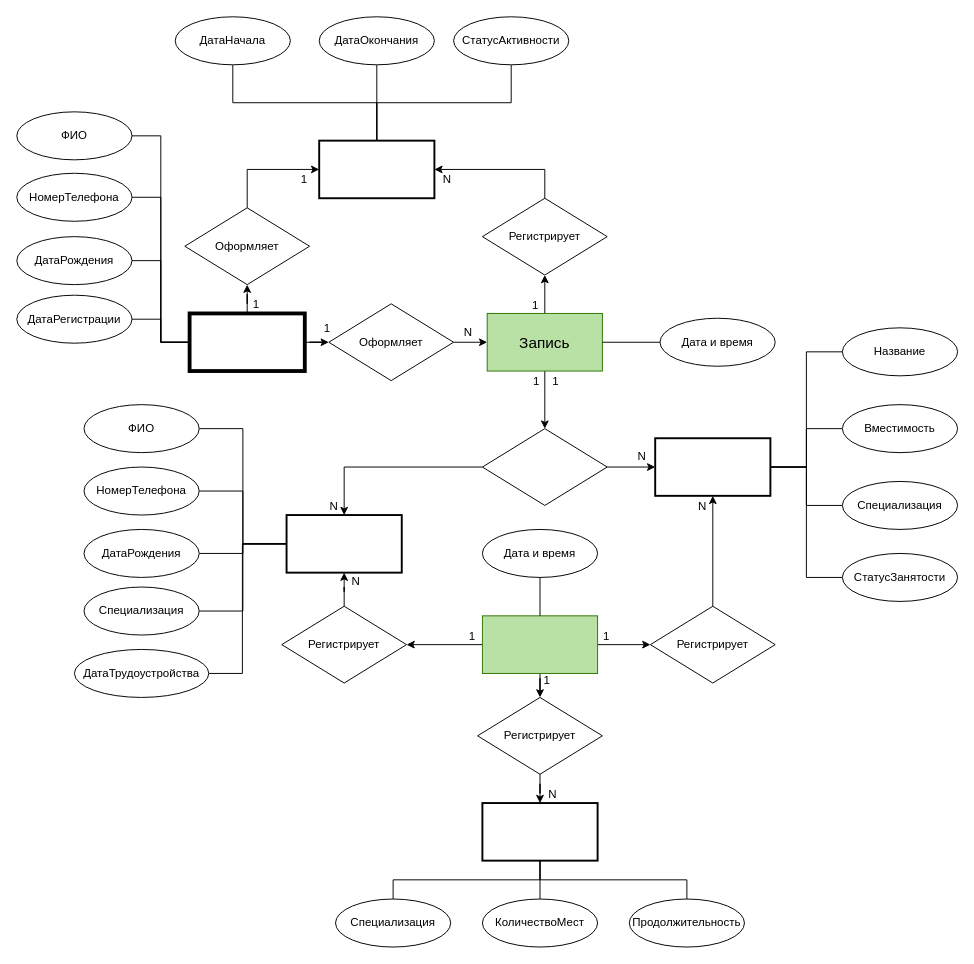
This 974x964 diagram has some shape labels left out. The centre of each missing label's shape, as x and y in pixels:
"Абонемент" belongs at (376,169).
"Зал" belongs at (712,466).
"Клиент" belongs at (246,341).
"Назначает" belongs at (544,466).
"Расписание" belongs at (539,644).
"Тренер" belongs at (343,543).
"Тренировка" belongs at (539,831).
